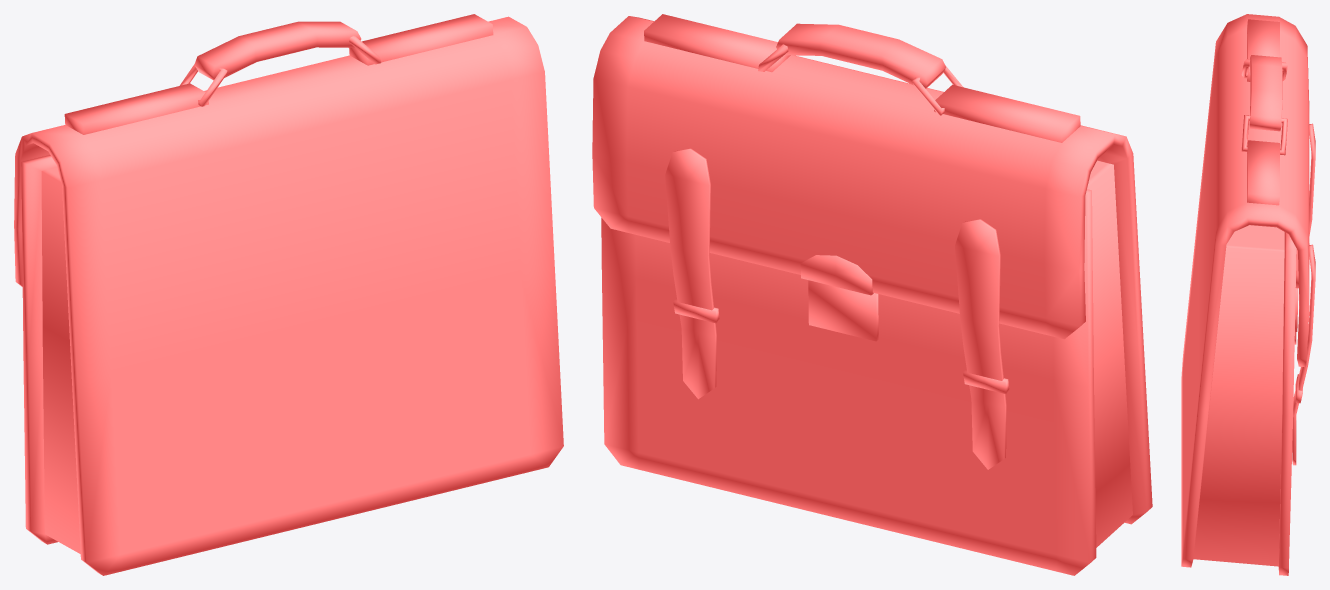
File: map_kaban.fbx
3 renders of one model, left to right at view 1: azimuth 30°, elevation 25°; view 2: azimuth 150°, elevation 25°; view 3: azimuth 270°, elevation 25°, orthographic. The views are drawn at different scales.
Visible parts, largest first — view 1: O_schoolbag1; view 2: O_schoolbag1; view 3: O_schoolbag1.
Boxes of the visible parts, x1,y1,x2,y2 form: O_schoolbag1: (14,14,563,575); O_schoolbag1: (592,14,1152,575); O_schoolbag1: (1181,14,1315,575).
Size of the model in its own units: 2.81 by 2.61 by 0.7839.
